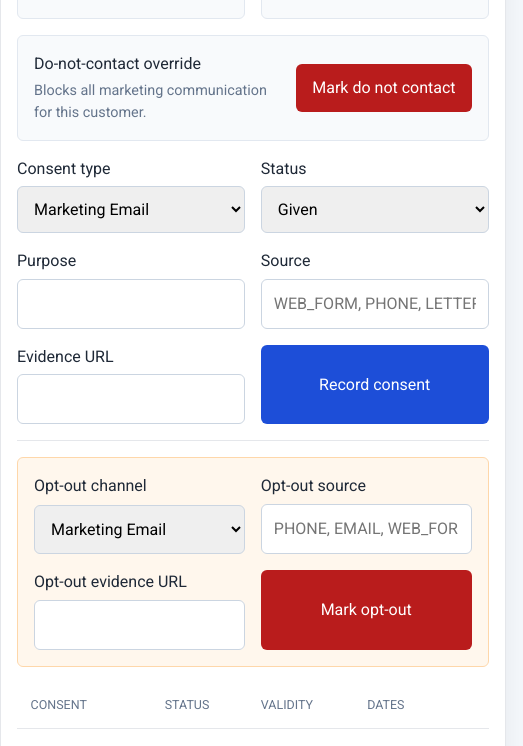
Test case: CustomerDetailsPage › requires purpose before recording consent through the UI
The width and height of the screenshot is (523, 746).
(page scrolled)
Click the button "Record consent" at (375,385), box [261,345,489,424]
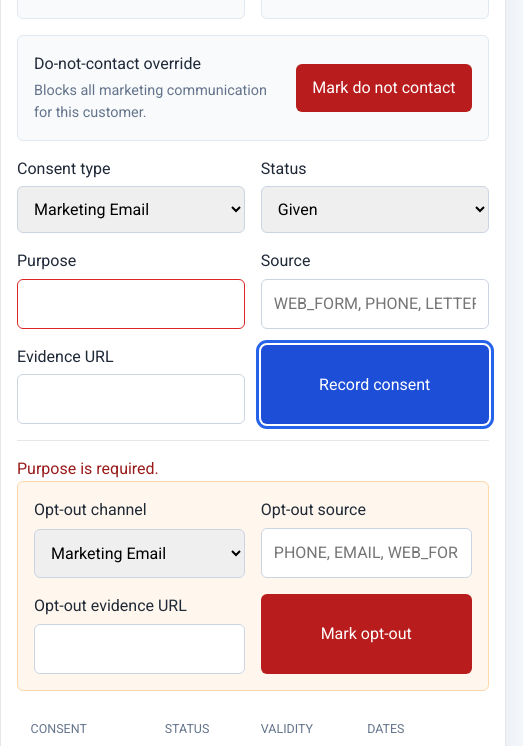
Now the message with test id "consent-form-error" reads "Purpose is required.", box [17,459,159,478]
